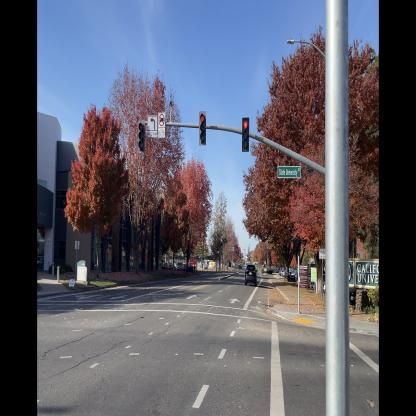left-red: (137, 117, 146, 156)
red: (198, 110, 207, 148), (241, 116, 250, 154)
